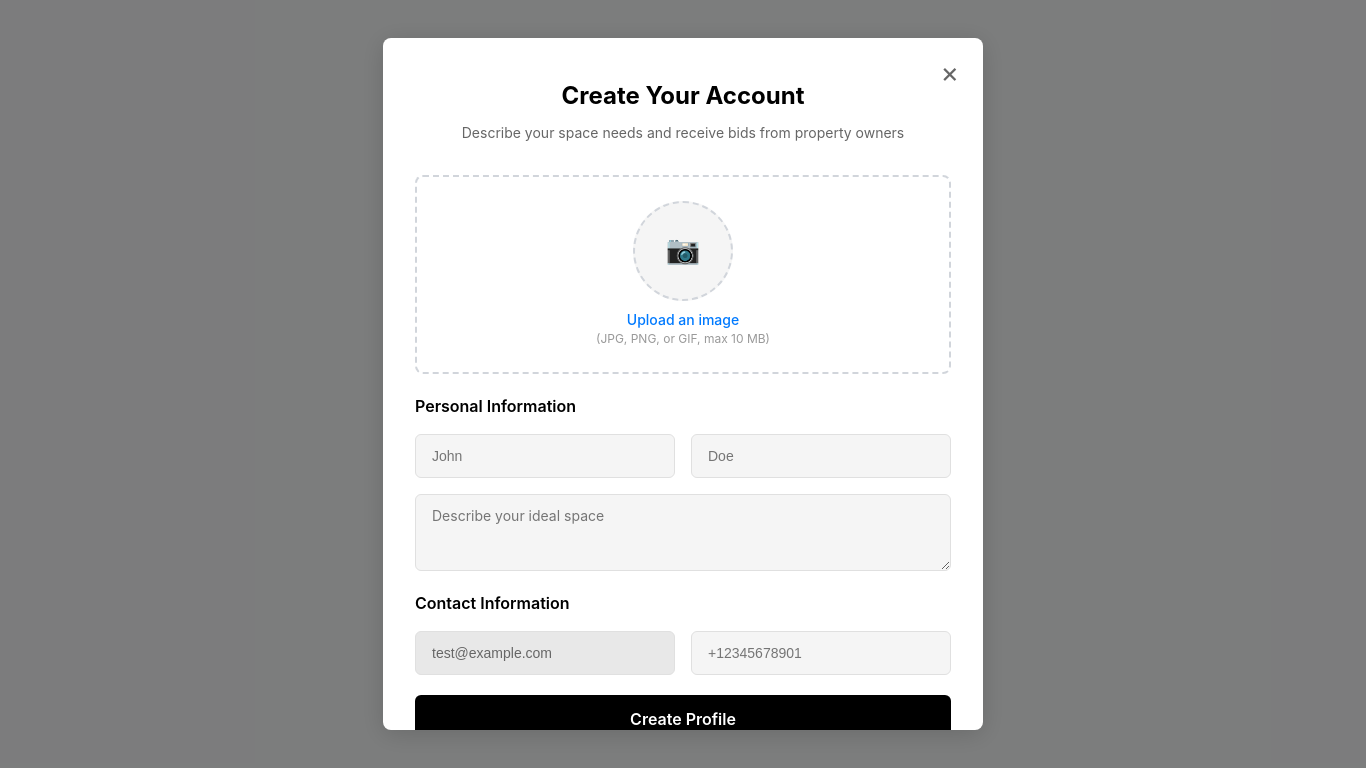
Test: Authentication Components › ProfileCreationModal › validates required fields
The width and height of the screenshot is (1366, 768).
Click the button "Create Profile" at (683, 719), box x1=415 y1=695 x2=951 y2=743
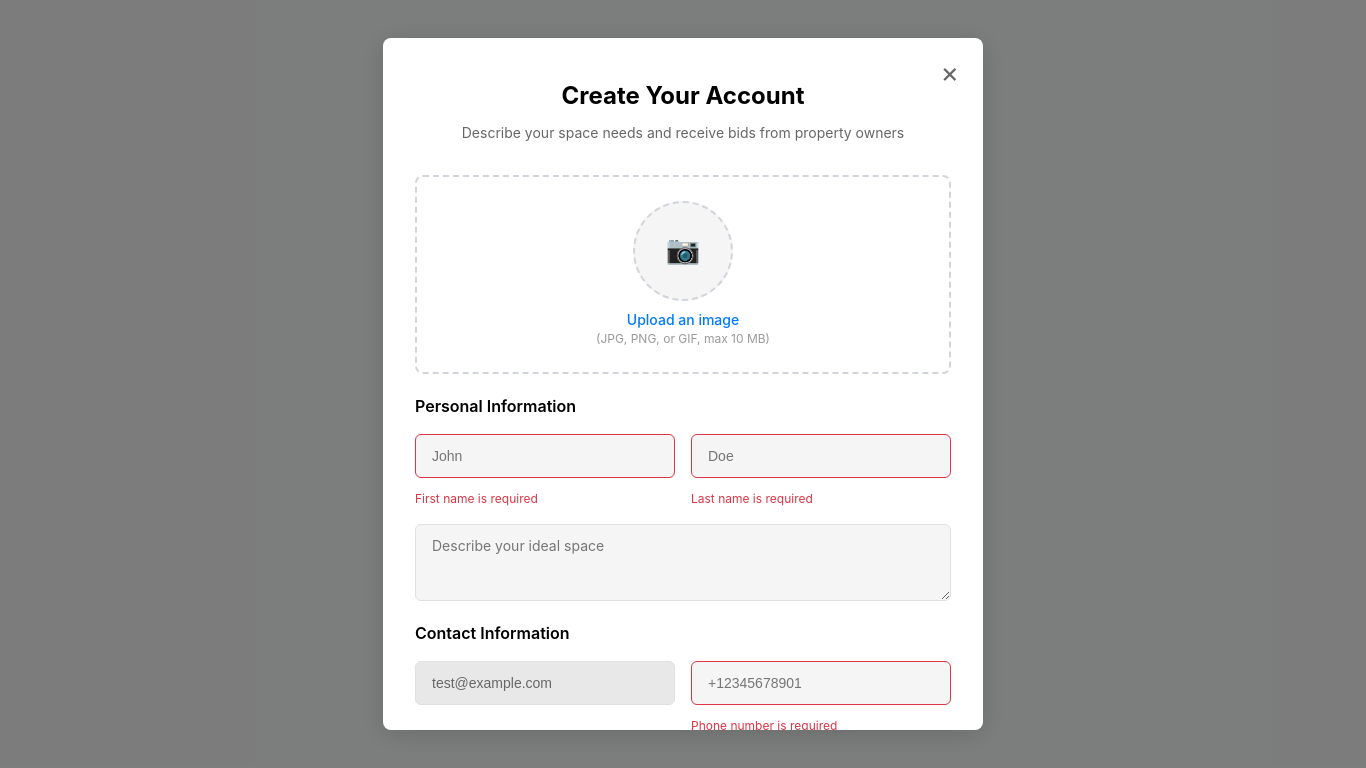
Expected: the text "First name is required" is shown, x1=415 y1=491 x2=538 y2=506
Expected: the text "Last name is required" is shown, x1=691 y1=491 x2=813 y2=506
Expected: the text "Phone number is required" is shown, x1=691 y1=718 x2=837 y2=730
